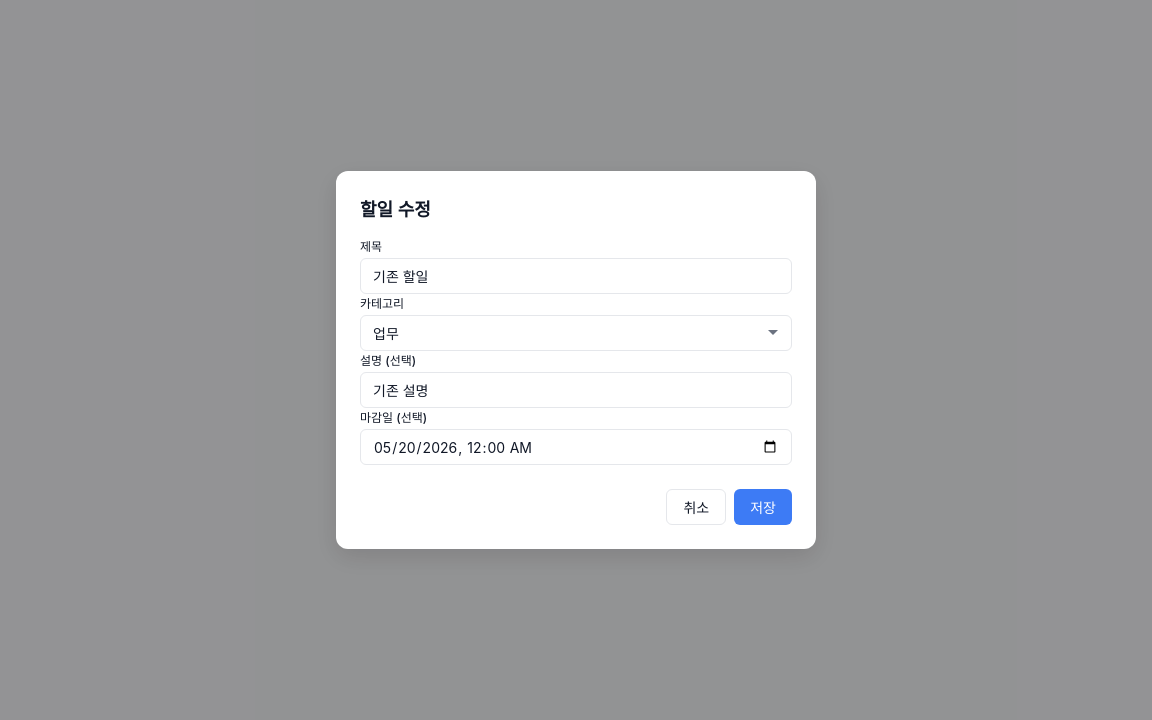
Scenario: EditTodoModal 유효성 검사 › 제목 지우고 저장 시 에러 표시
Step 1. Clear the field showing "기존 할일" → (576, 276), box [360,258,792,294]
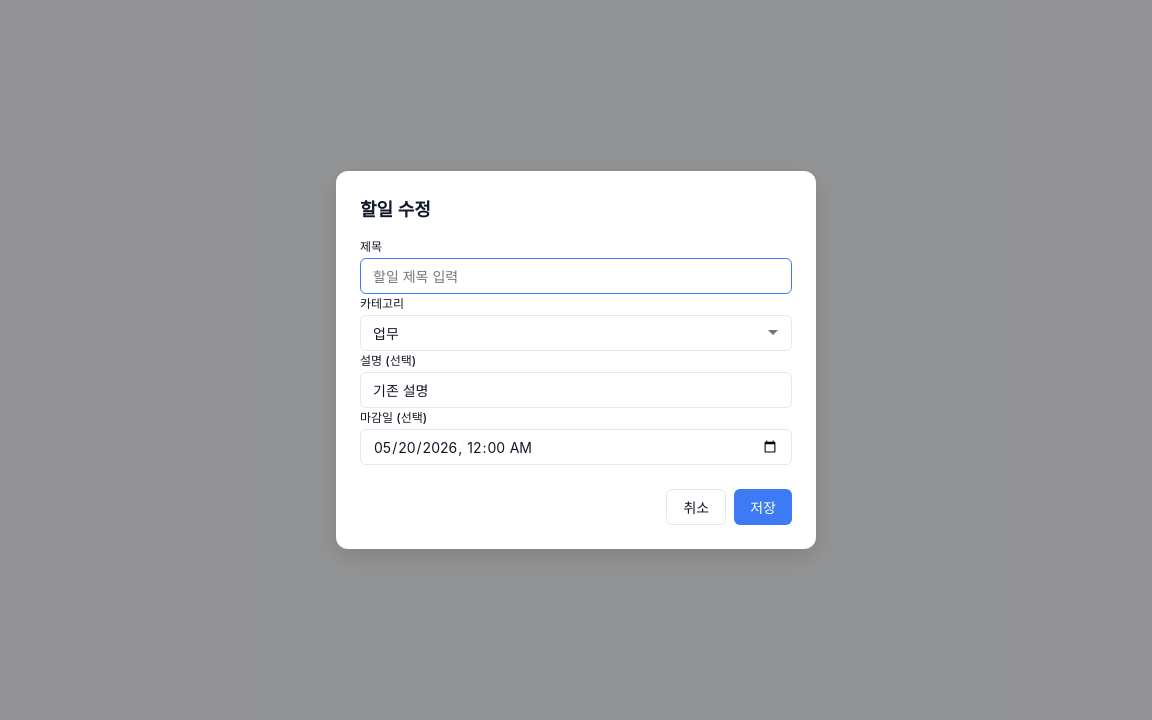
Step 2. Click the button "저장" → (763, 507), box [734,489,792,525]
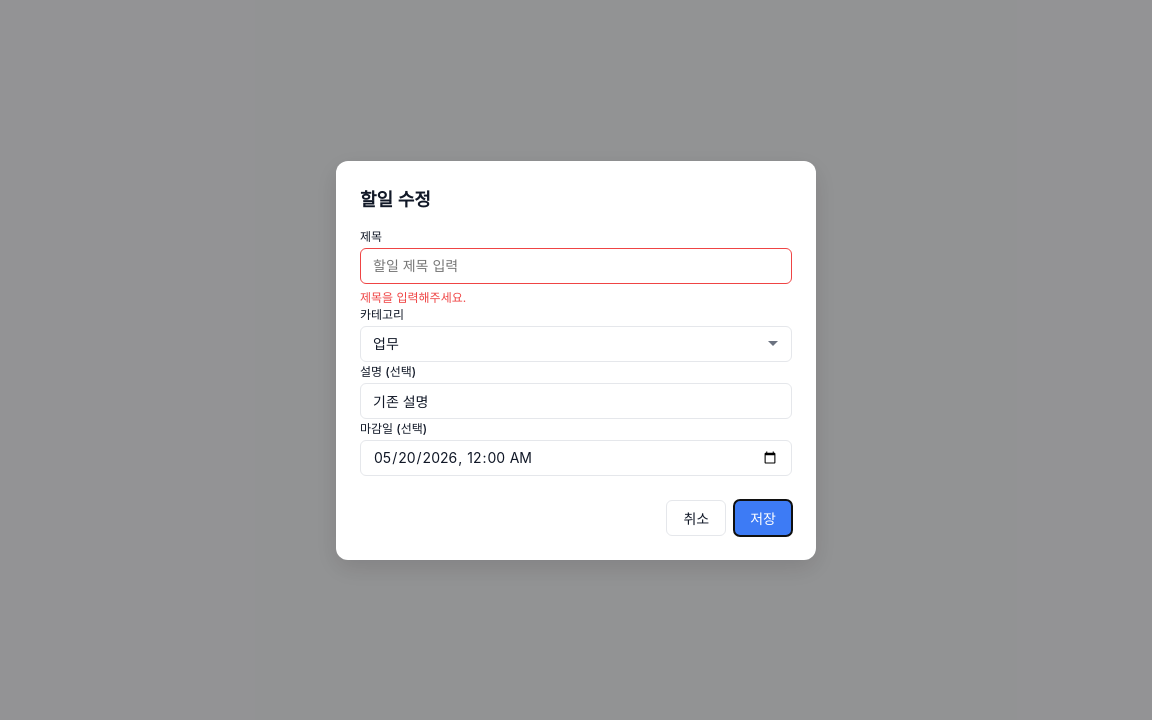
Expected: the text "제목을 입력해주세요." is shown, [360,290,466,304]
